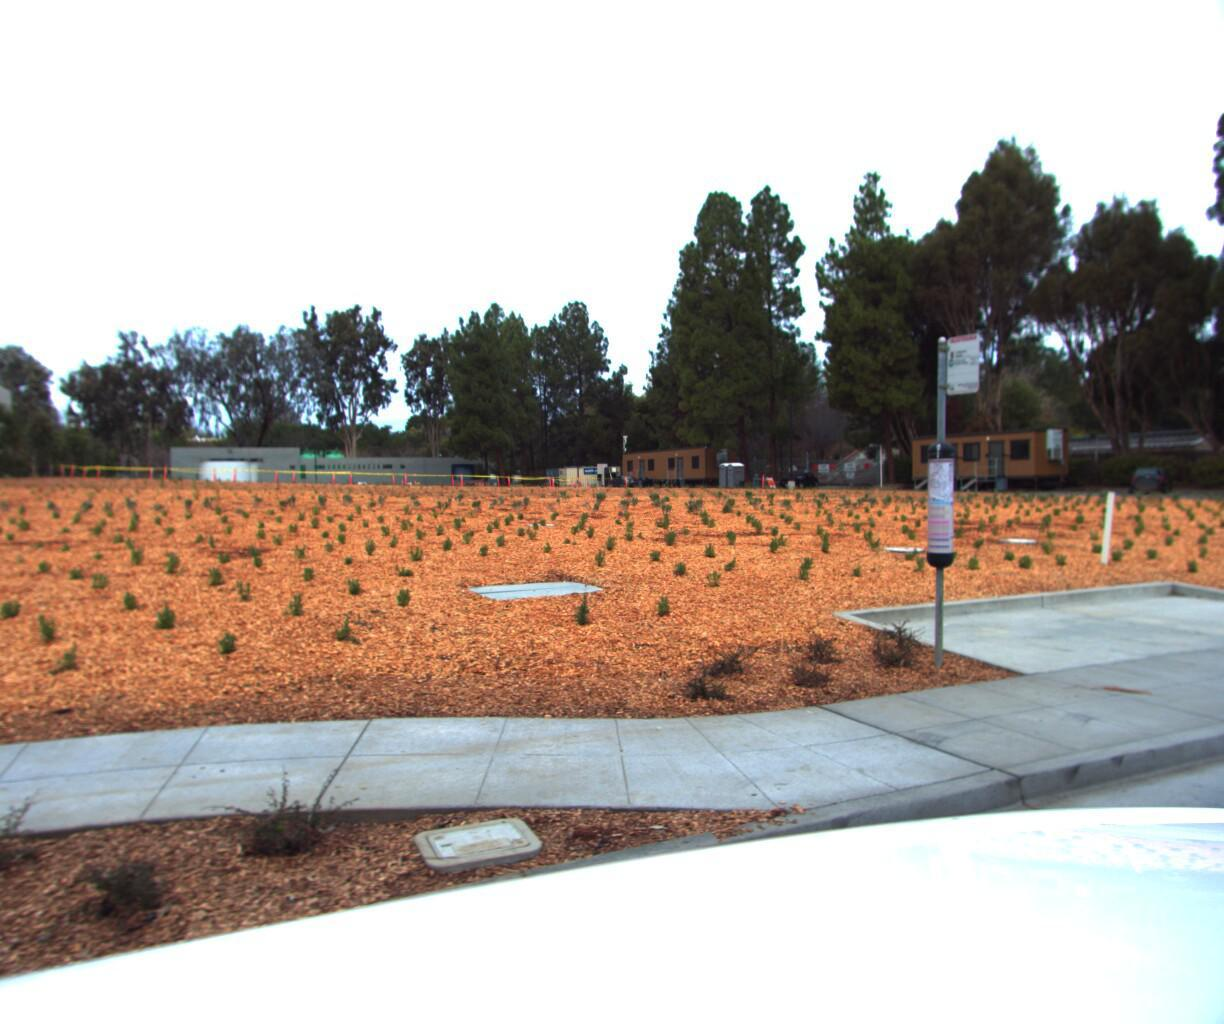car: (1128, 456, 1173, 487)
